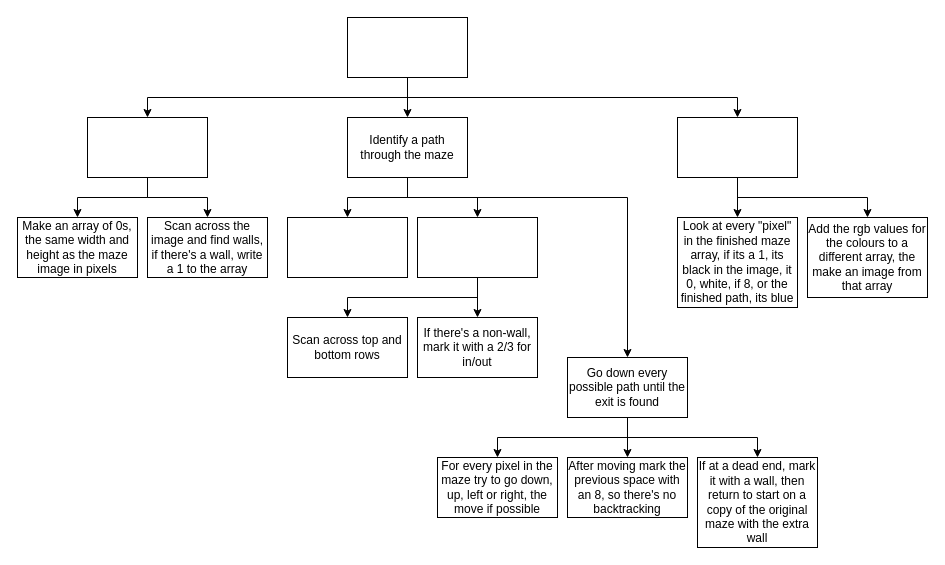
Some shapes in this 945 by 565 pixel diagram are drawn without their labels. The shapes that lost their labels are listed below. From the top down, each one's box as (x1, y1, x2, y2) in pixels, then its label:
(346, 16, 468, 78): Chess
(86, 116, 208, 178): Read in the maze image
(676, 116, 798, 178): Output the completed maze
(286, 216, 408, 278): Make a copy of the maze to try and solve
(416, 216, 538, 278): Find start and exit and mark them
